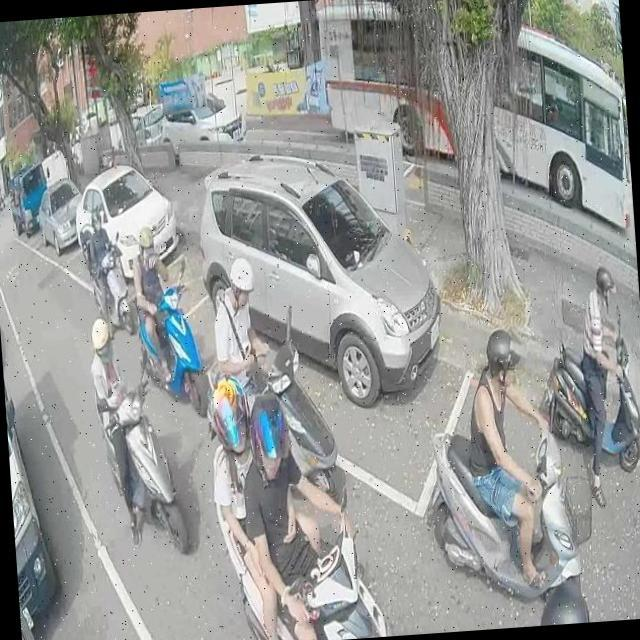person: (201, 361, 325, 640), (237, 385, 367, 640), (460, 316, 564, 596), (570, 256, 637, 512), (89, 306, 150, 548), (132, 213, 188, 385), (207, 253, 263, 406), (82, 203, 120, 321), (536, 567, 590, 625)
